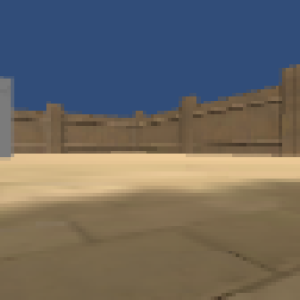wall: (1, 75, 13, 158)
